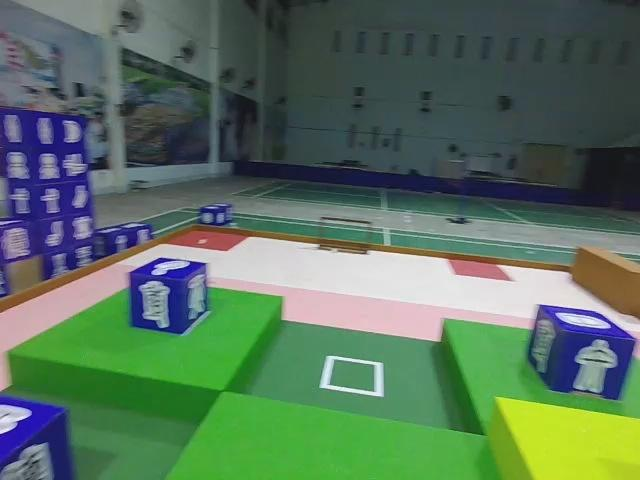R2 Fake Blue: (525, 307, 637, 405), (127, 256, 210, 335), (0, 393, 75, 479)
